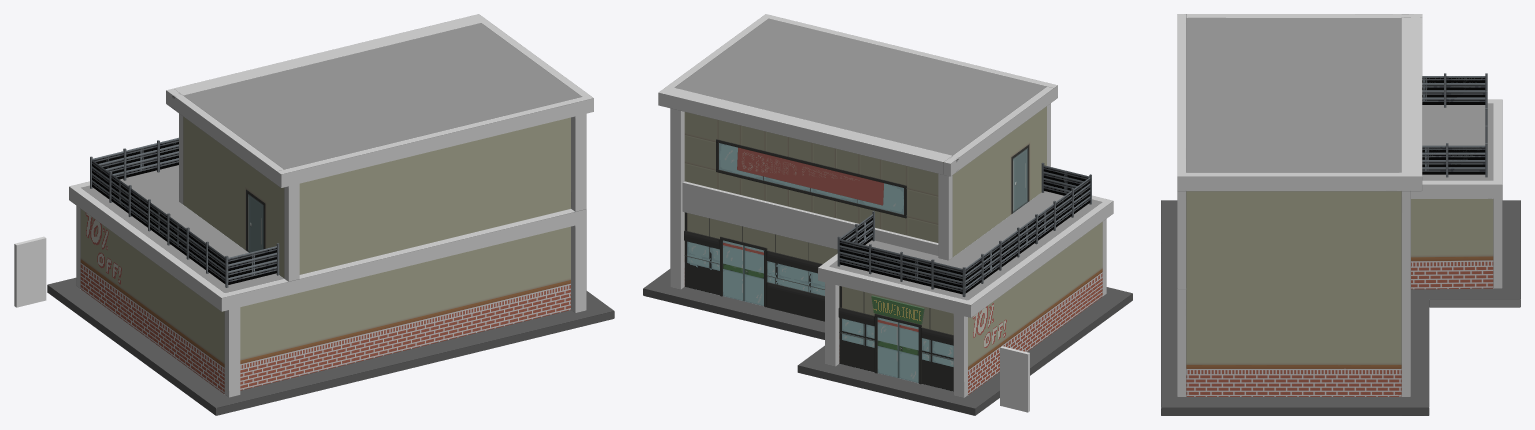
File: ConvenienceStore.fbx
3 renders of one model, left to right at view 1: azimuth 30°, elevation 25°; view 2: azimuth 150°, elevation 25°; view 3: azimuth 270°, elevation 25°, orthographic. The views are drawn at different scales.
Parts seen in each view (by area): view 1: ConvenienceStore, FrameLarge, FrameSmall, Fence, PersonRef; view 2: ConvenienceStore, FrameLarge, FrameSmall, Fence, FrontDetails, OuterDetail, WindowBanner, PersonRef, FrontSign; view 3: ConvenienceStore, FrameLarge, FrameSmall, Fence.
Boxes of the visible parts, x1,y1,x2,y2 form: ConvenienceStore: (47, 23, 614, 415); FrameLarge: (166, 14, 593, 281); FrameSmall: (69, 181, 586, 397); Fence: (90, 137, 279, 287); PersonRef: (14, 236, 46, 307); ConvenienceStore: (643, 18, 1132, 415); FrameLarge: (658, 14, 1057, 289); FrameSmall: (818, 195, 1113, 397); Fence: (837, 162, 1091, 296); FrontDetails: (684, 139, 953, 384); OuterDetail: (682, 181, 938, 255); WindowBanner: (737, 147, 883, 205); PersonRef: (1000, 346, 1029, 412); FrontSign: (871, 295, 924, 324); ConvenienceStore: (1161, 18, 1520, 415); FrameLarge: (1177, 14, 1422, 396); FrameSmall: (1177, 99, 1502, 396); Fence: (1422, 73, 1487, 177).
Size of the model in its own units: 1488 by 700 by 981.
8 materials, 8 textured.
